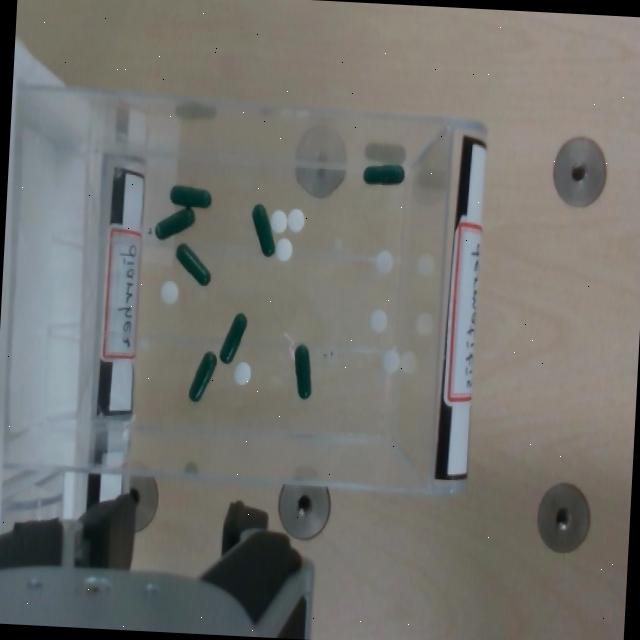ganakan_tab: (231, 358, 252, 388), (286, 205, 306, 233), (273, 236, 293, 263), (268, 208, 288, 235), (374, 248, 394, 274), (159, 279, 178, 304), (368, 307, 387, 331), (287, 207, 305, 232), (382, 347, 399, 373), (383, 347, 400, 372), (370, 307, 387, 332), (375, 249, 393, 272), (233, 361, 251, 384), (161, 280, 178, 303), (270, 209, 286, 232), (276, 237, 291, 260)
monodoxy_cap: (173, 240, 212, 287), (186, 348, 216, 403), (152, 204, 195, 242), (248, 202, 277, 258), (219, 310, 247, 365), (176, 242, 211, 284), (219, 311, 246, 362), (189, 350, 216, 401), (291, 342, 314, 399), (154, 206, 194, 238), (252, 202, 275, 255), (167, 181, 212, 208), (360, 160, 404, 187), (294, 344, 311, 398), (170, 185, 211, 207), (363, 163, 404, 183)
